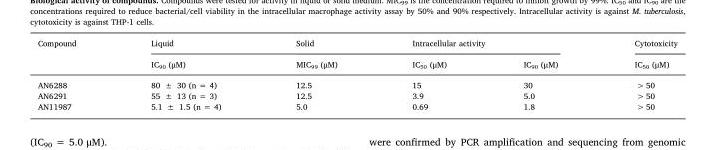table: (36, 37, 676, 110)
table column: (112, 37, 257, 110), (257, 37, 374, 110), (484, 37, 595, 110), (374, 37, 484, 110), (595, 37, 676, 110), (36, 37, 112, 110)
table column header: (36, 37, 676, 75)
table row: (36, 52, 676, 75), (36, 37, 676, 52), (36, 75, 676, 89), (36, 89, 676, 100), (36, 100, 676, 110)
table spanning cell: (112, 37, 257, 75), (257, 37, 374, 75), (374, 37, 595, 52), (595, 37, 676, 75), (36, 37, 112, 75)
